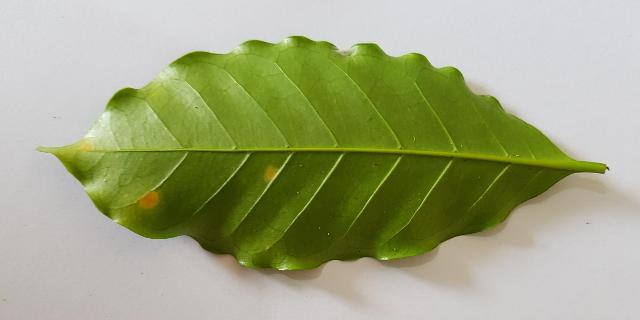miner: (138, 191, 159, 209), (265, 168, 277, 179), (78, 142, 94, 150)
